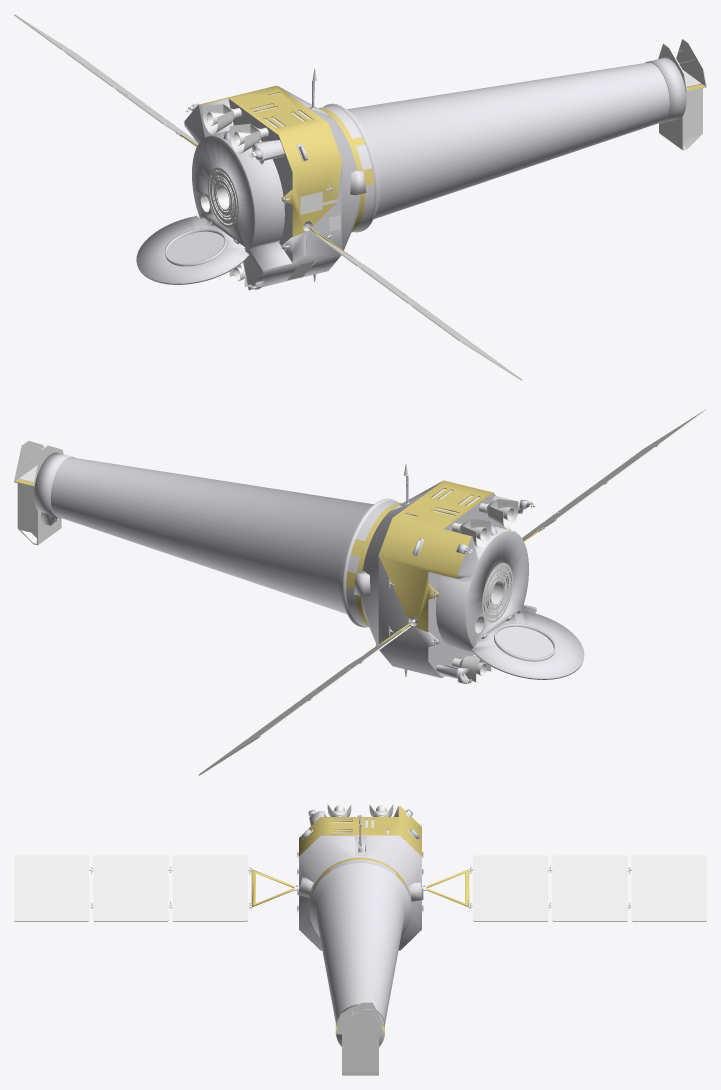
The model's file is ChandraXrayObservatory.glb.
The picture shows the model from 3 angles, top to bottom: view 1: azimuth 30°, elevation 25°; view 2: azimuth 150°, elevation 25°; view 3: azimuth 270°, elevation 25°; orthographic projection. The views are drawn at different scales.
Parts seen in each view (by area): view 1: foil_silver, tex_01, foil_gold, AO_HRMA; view 2: foil_silver, foil_gold, tex_01, AO_HRMA; view 3: tex_01, foil_silver, foil_gold.
Boxes of the visible parts, left/top/right/bottom form: foil_silver: left=136, top=57, right=686, bottom=290; tex_01: left=14, top=14, right=706, bottom=380; foil_gold: left=180, top=84, right=705, bottom=257; AO_HRMA: left=207, top=167, right=338, bottom=227; foil_silver: left=34, top=452, right=584, bottom=683; foil_gold: left=16, top=479, right=540, bottom=652; tex_01: left=14, top=409, right=706, bottom=775; AO_HRMA: left=482, top=562, right=512, bottom=622; tex_01: left=14, top=804, right=706, bottom=1075; foil_silver: left=297, top=806, right=423, bottom=1046; foil_gold: left=251, top=806, right=469, bottom=1032.
Bounding box in the file's own units: 13.78 × 5.14 × 19.51.
